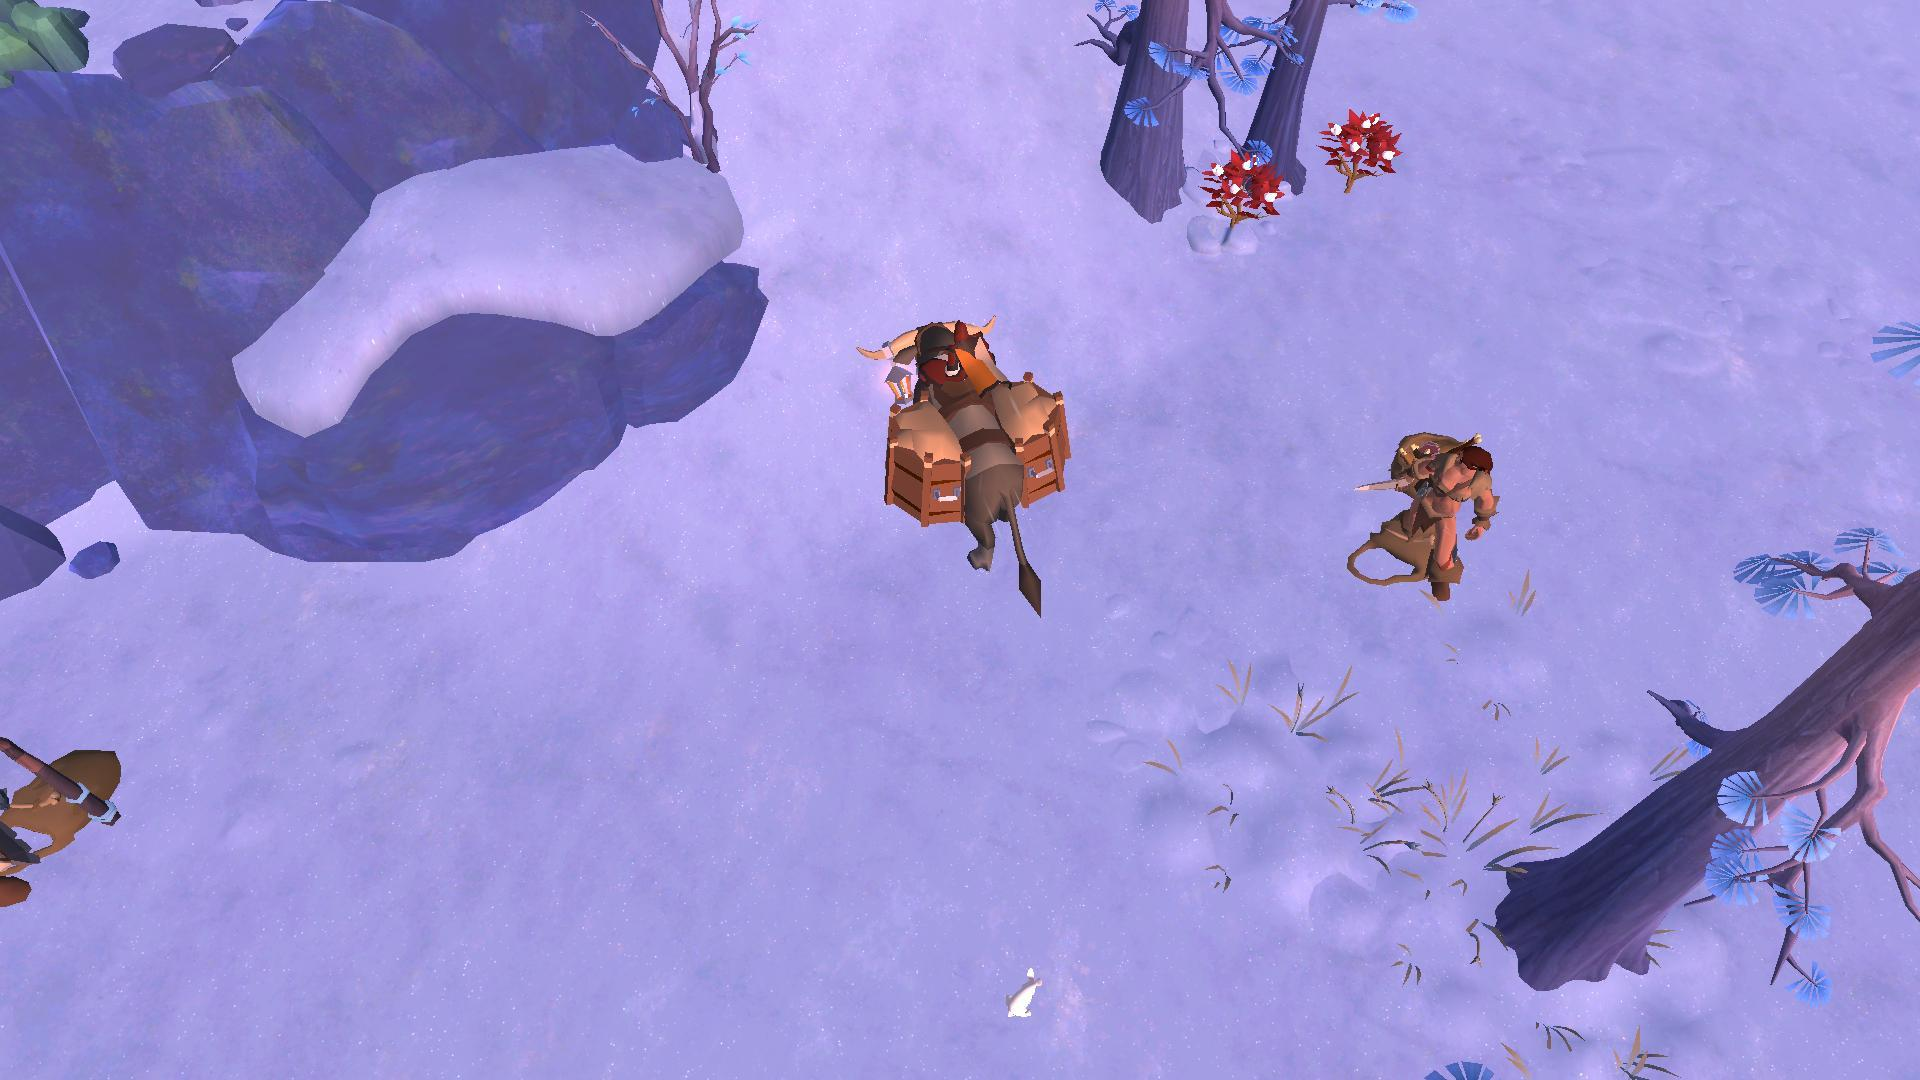enemy_factionKeeper: (1360, 418, 1507, 582)
fiber_t5: (1313, 98, 1408, 190), (1199, 148, 1287, 225)
rock_t3: (0, 0, 116, 99)
